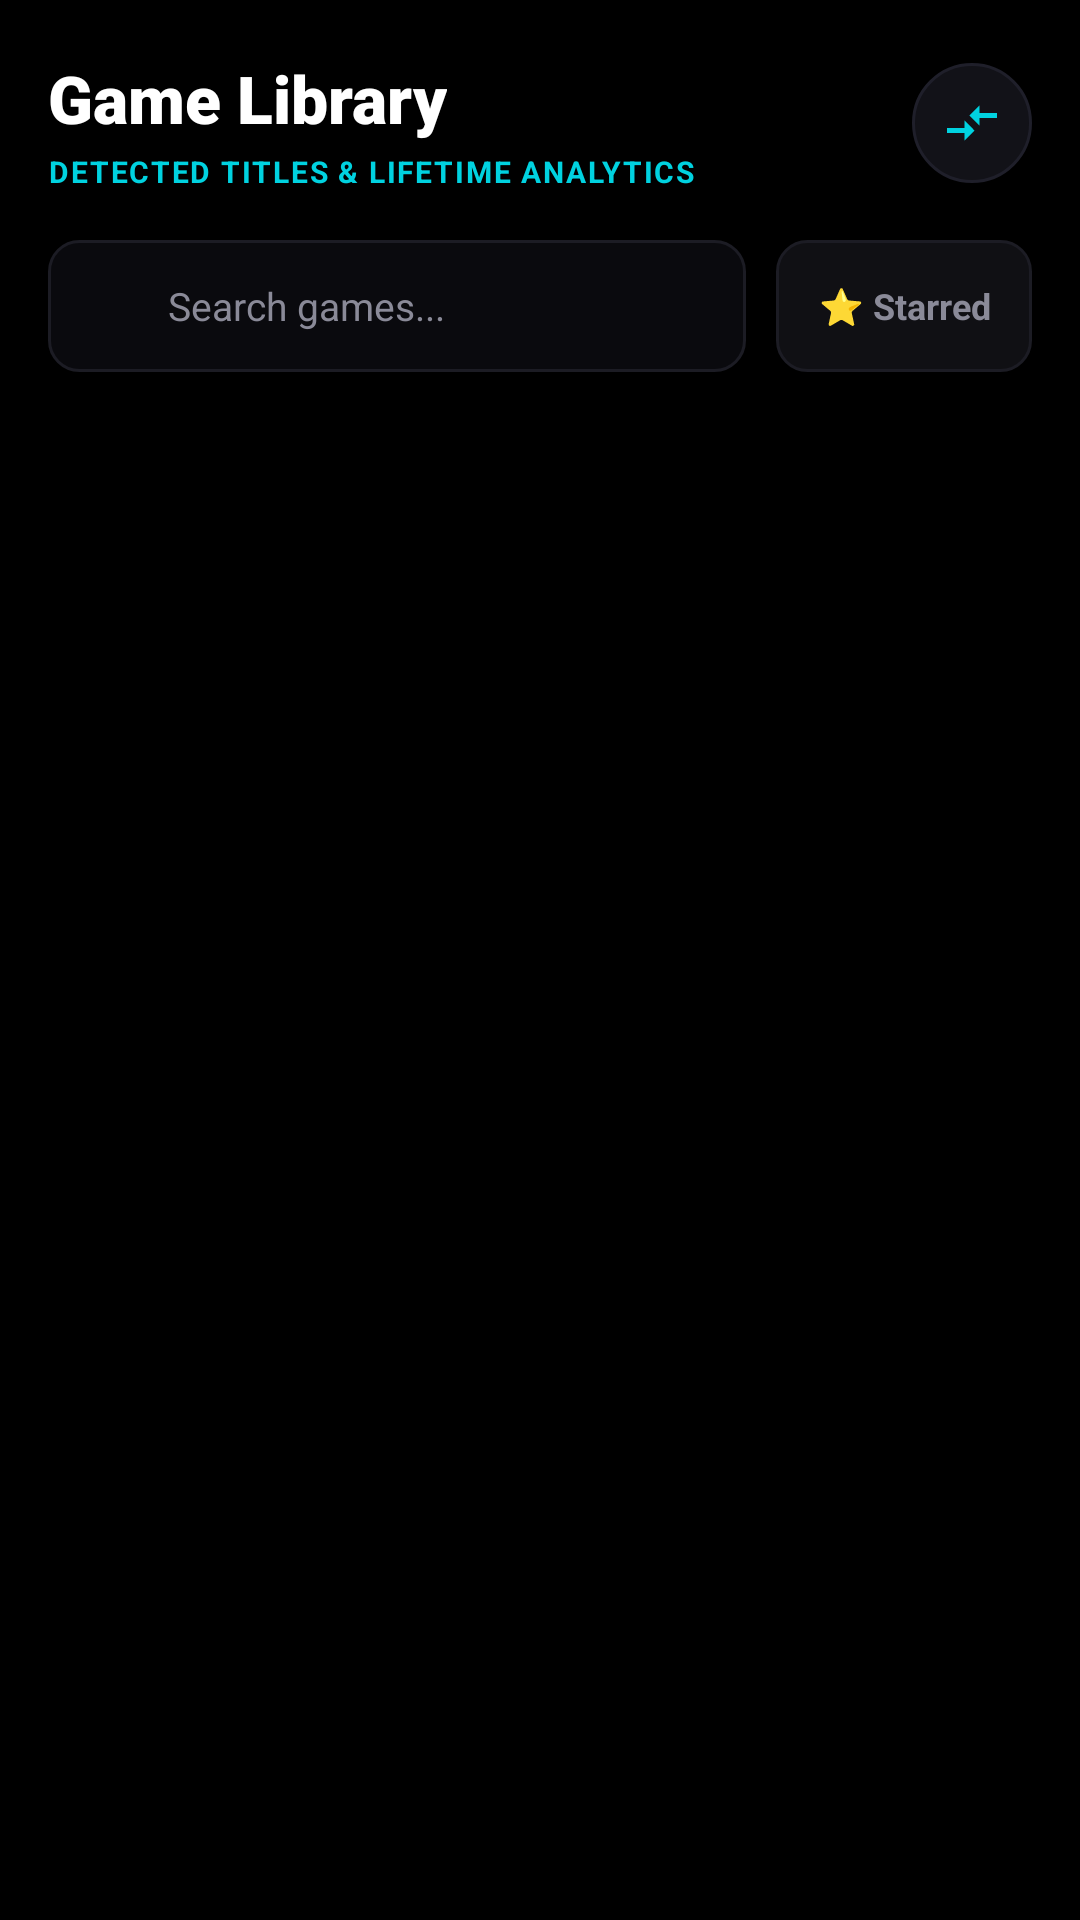

Named icons in this screenshot (1080w x 1920h) and their bounding boxes, bbox=(x1, y1, x2, y2):
compare: bbox=(947, 105, 997, 141)
